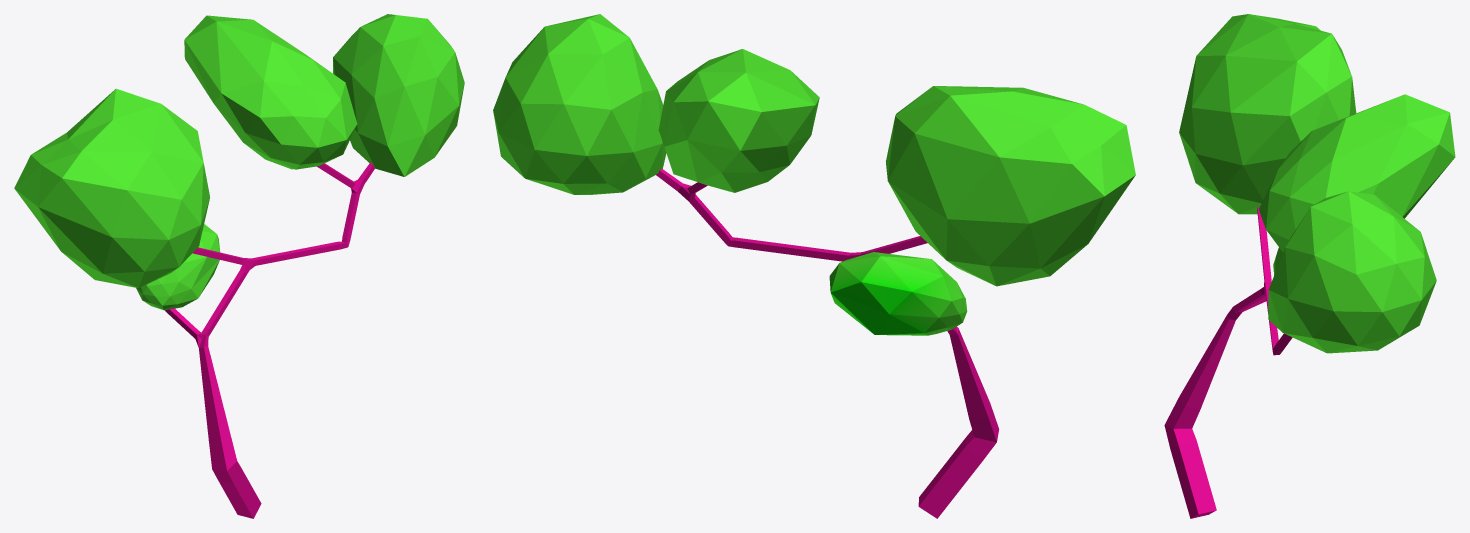
File: tree1fbx.fbx
3 renders of one model, left to right at view 1: azimuth 30°, elevation 25°; view 2: azimuth 150°, elevation 25°; view 3: azimuth 270°, elevation 25°, orthographic. The views are drawn at different scales.
Visible parts, largest first — view 1: Icosphere, Icosphere.002, Icosphere.001, Cube, Icosphere.003; view 2: Icosphere, Icosphere.001, Icosphere.002, Icosphere.003, Cube; view 3: Icosphere, Icosphere.001, Icosphere.002, Cube.
Boxes of the visible parts, x1,y1,x2,y2 form: Icosphere: (14,88,209,288); Icosphere.002: (184,15,357,169); Icosphere.001: (333,14,464,176); Cube: (165,162,374,518); Icosphere.003: (136,224,220,310); Icosphere: (886,86,1135,286); Icosphere.001: (493,14,666,194); Icosphere.002: (658,49,819,192); Icosphere.003: (829,252,967,335); Cube: (656,169,999,518); Icosphere: (1179,14,1356,214); Icosphere.001: (1268,191,1436,353); Icosphere.002: (1258,94,1455,252); Cube: (1164,207,1292,518).
Size of the model in its own units: 691 by 586 by 338.
